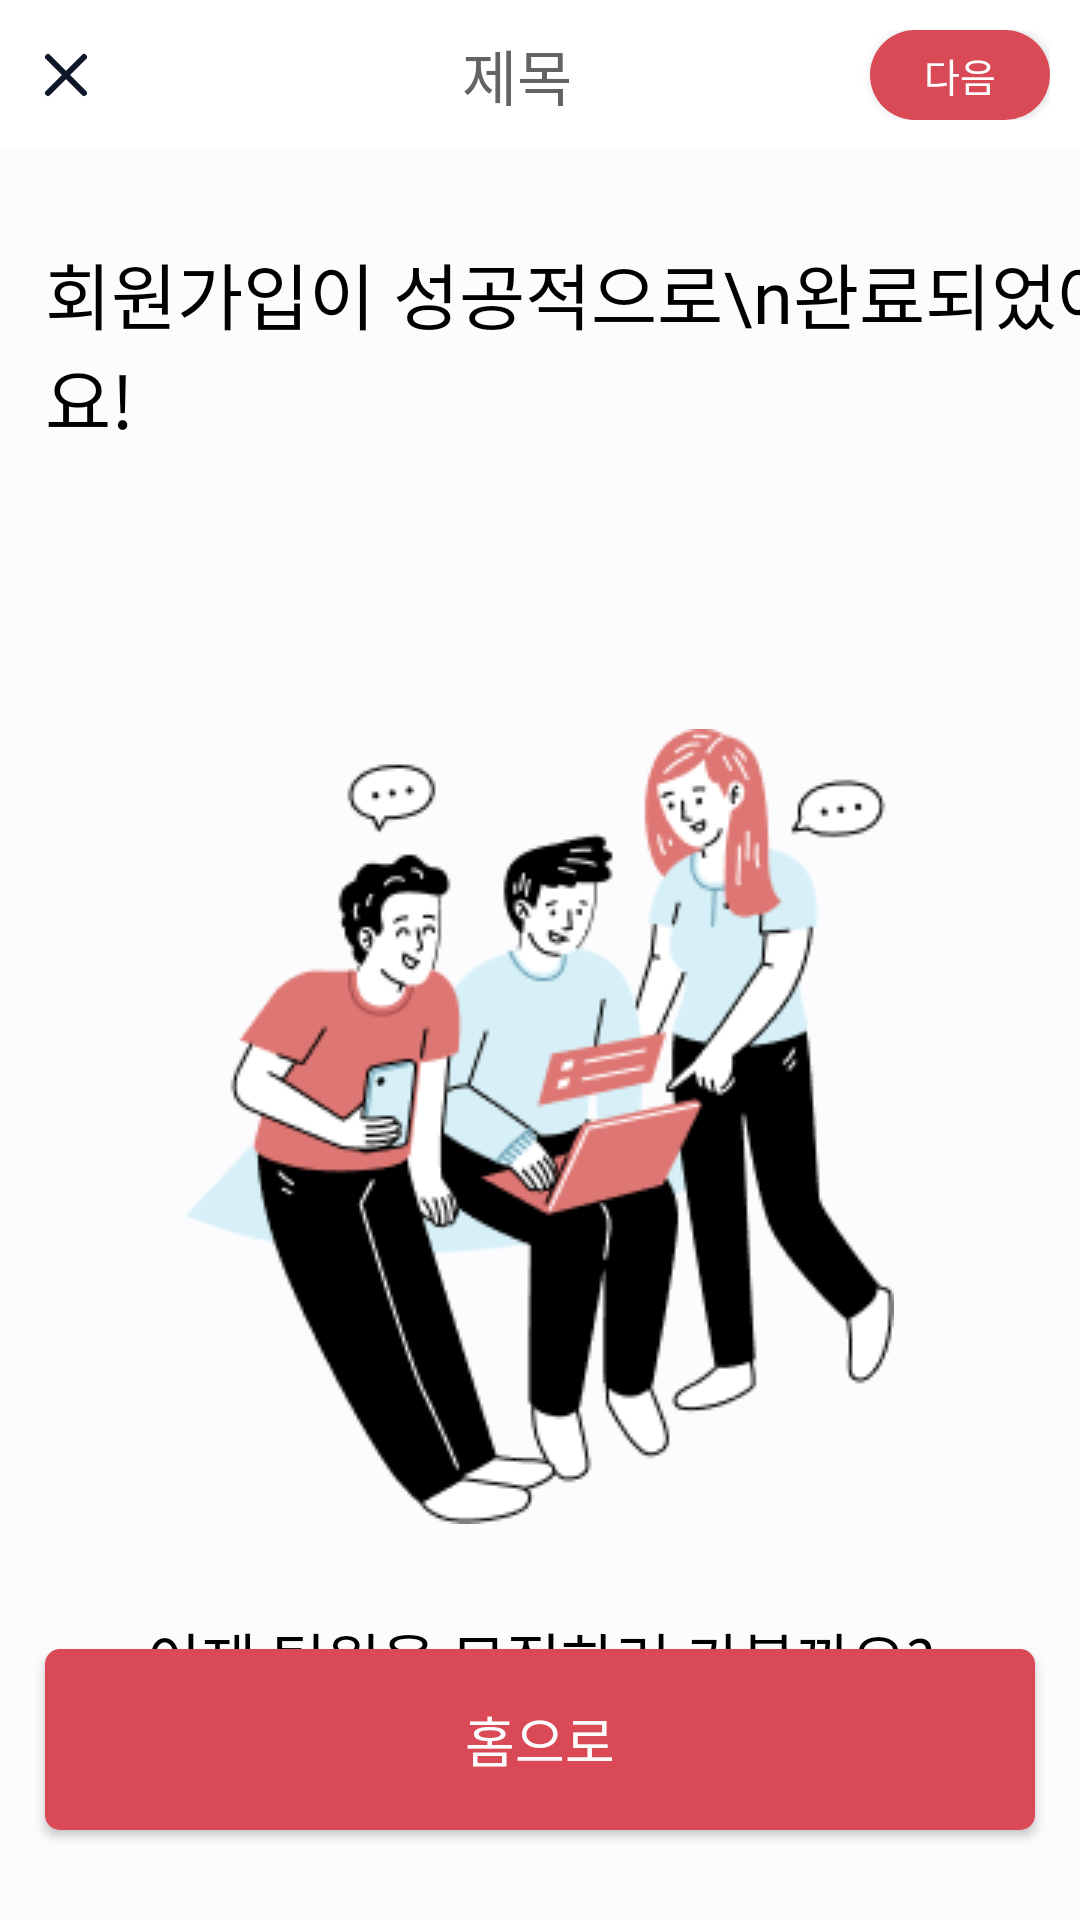

Where to tap for icons on this 1080 x 1920 app screen, as point (x, y):
delete: point (66, 74)
